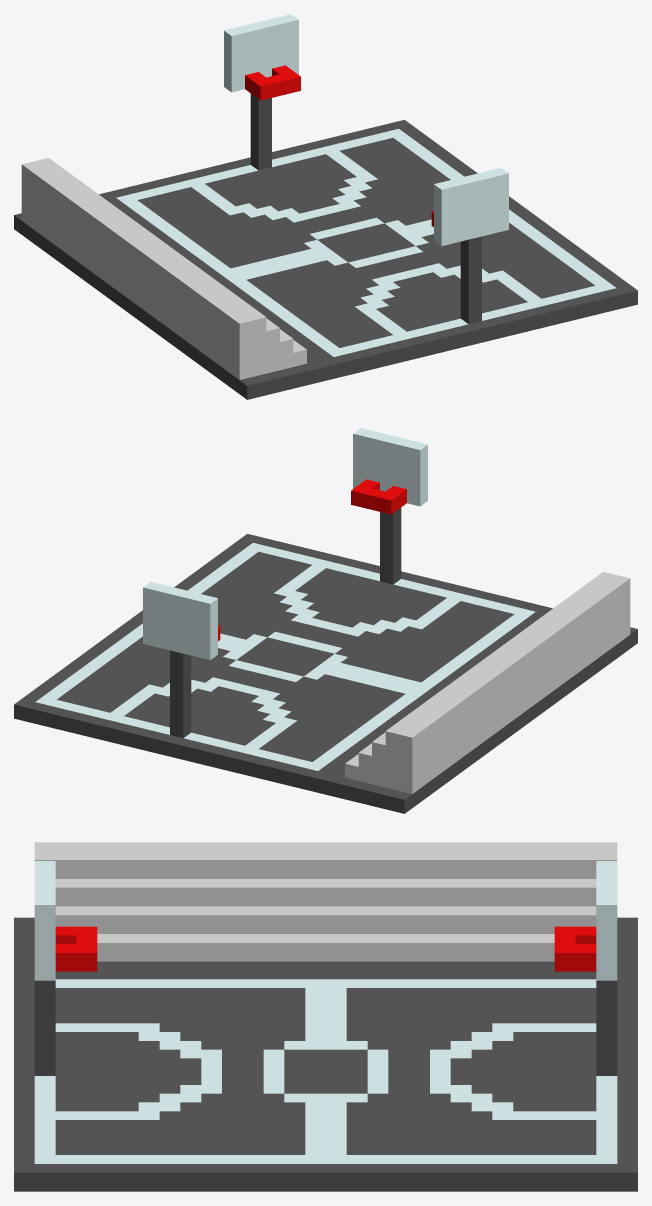
Rendered from basketballcourt.obj.
3 renders of one model, top to bottom at view 1: azimuth 30°, elevation 25°; view 2: azimuth 150°, elevation 25°; view 3: azimuth 270°, elevation 25°, orthographic. The views are drawn at different scales.
Bounding box in the file's own units: 29 × 11 × 30.
